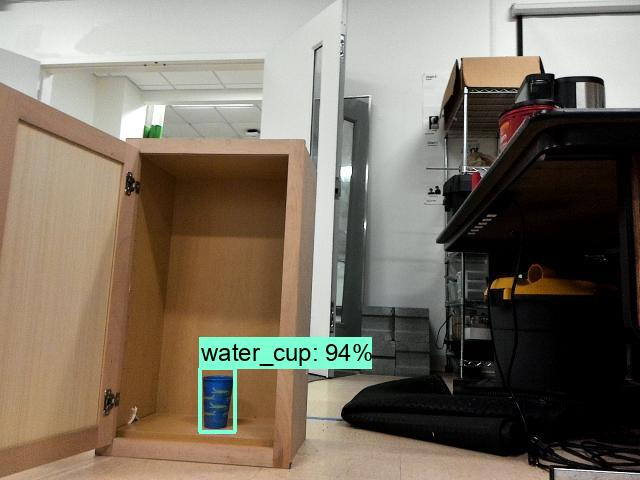water_cup: (200, 374, 235, 428)
